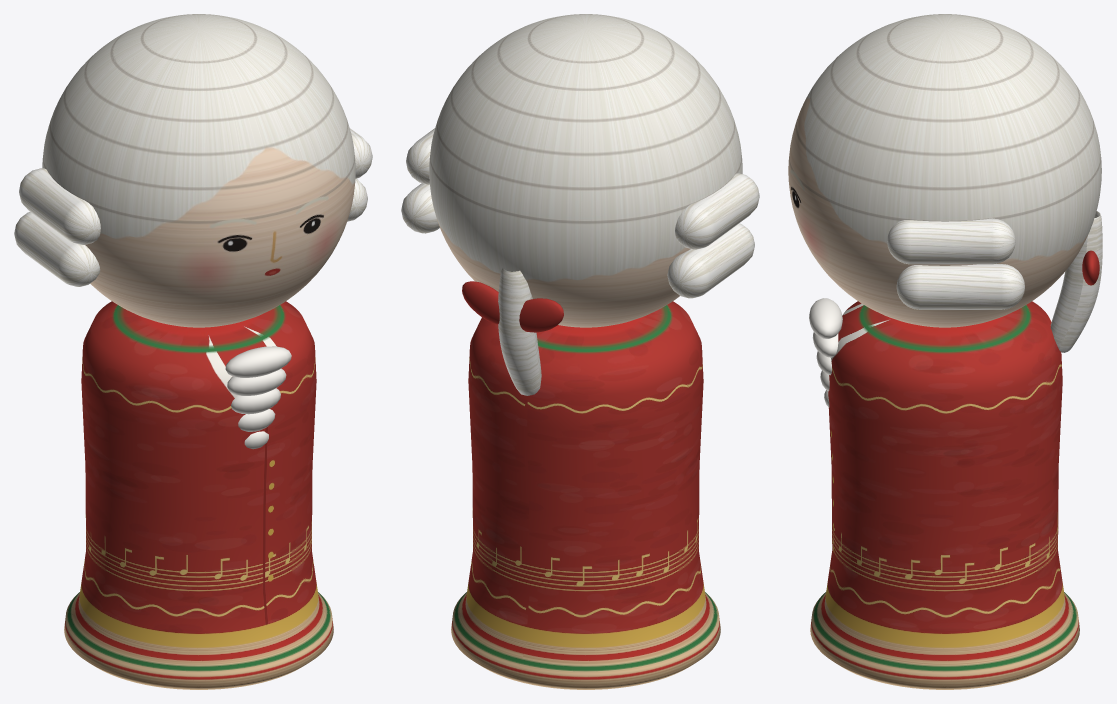
Rendered from mozart.glb.
3 renders of one model, left to right at view 1: azimuth 30°, elevation 25°; view 2: azimuth 150°, elevation 25°; view 3: azimuth 270°, elevation 25°, orthographic.
Visible parts, largest first — view 1: body, head, Wolfgang Amadeus Mozart; view 2: body, head, Wolfgang Amadeus Mozart; view 3: body, head, Wolfgang Amadeus Mozart.
Part boxes in pixels (box(x1,y1,x2,y2)): body: box(64, 301, 333, 689); head: box(42, 14, 355, 327); Wolfgang Amadeus Mozart: box(14, 128, 372, 449); body: box(451, 301, 720, 689); head: box(429, 14, 742, 327); Wolfgang Amadeus Mozart: box(401, 128, 759, 395); body: box(810, 301, 1079, 689); head: box(788, 14, 1101, 327); Wolfgang Amadeus Mozart: box(809, 211, 1102, 407).
Bounding box in the file's own units: 0.0848 × 0.1605 × 0.0752.
6 materials, 3 textured.
